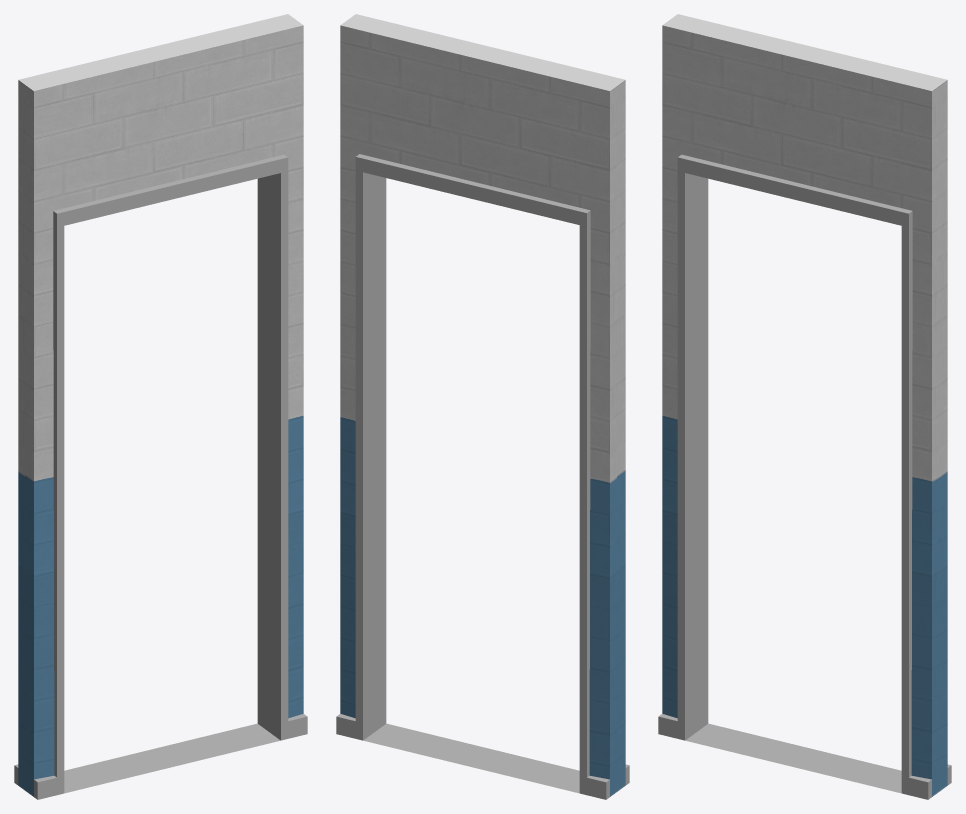
Rendered from Wall_Door_Frame.fbx.
3 renders of one model, left to right at view 1: azimuth 30°, elevation 25°; view 2: azimuth 150°, elevation 25°; view 3: azimuth 330°, elevation 25°, orthographic.
Visible parts, largest first — view 1: Wall016; view 2: Wall016; view 3: Wall016.
Part boxes in pixels (x1,y1,x2,y2): Wall016: [14, 14, 307, 799]; Wall016: [336, 14, 629, 799]; Wall016: [658, 14, 951, 799].
Bounding box in the file's own units: 1 × 2.5 × 0.15.
Materials: 5 (2 with a texture image).
